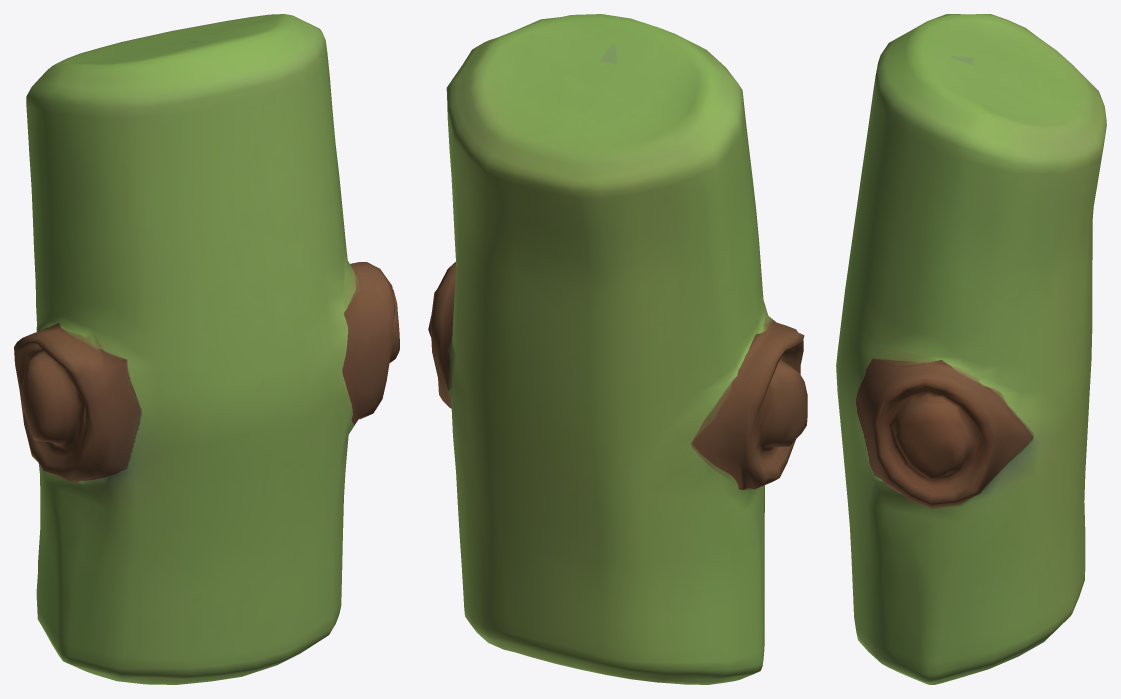
The model's file is monstera_stem_main.glb.
The picture shows the model from 3 angles, left to right: view 1: azimuth 30°, elevation 25°; view 2: azimuth 150°, elevation 25°; view 3: azimuth 270°, elevation 25°; orthographic projection. The views are drawn at different scales.
Visible parts, largest first — view 1: tripo_node_a86add1f-6735-4c6f-94ea-35ab9f6f7fde; view 2: tripo_node_a86add1f-6735-4c6f-94ea-35ab9f6f7fde; view 3: tripo_node_a86add1f-6735-4c6f-94ea-35ab9f6f7fde.
Part boxes in pixels (box(x1,y1,x2,y2)): tripo_node_a86add1f-6735-4c6f-94ea-35ab9f6f7fde: box(14, 14, 399, 684); tripo_node_a86add1f-6735-4c6f-94ea-35ab9f6f7fde: box(428, 14, 807, 684); tripo_node_a86add1f-6735-4c6f-94ea-35ab9f6f7fde: box(836, 14, 1106, 684).
Bounding box in the file's own units: 0.602 × 0.9953 × 0.4042.
Materials: 1 (1 with a texture image).
